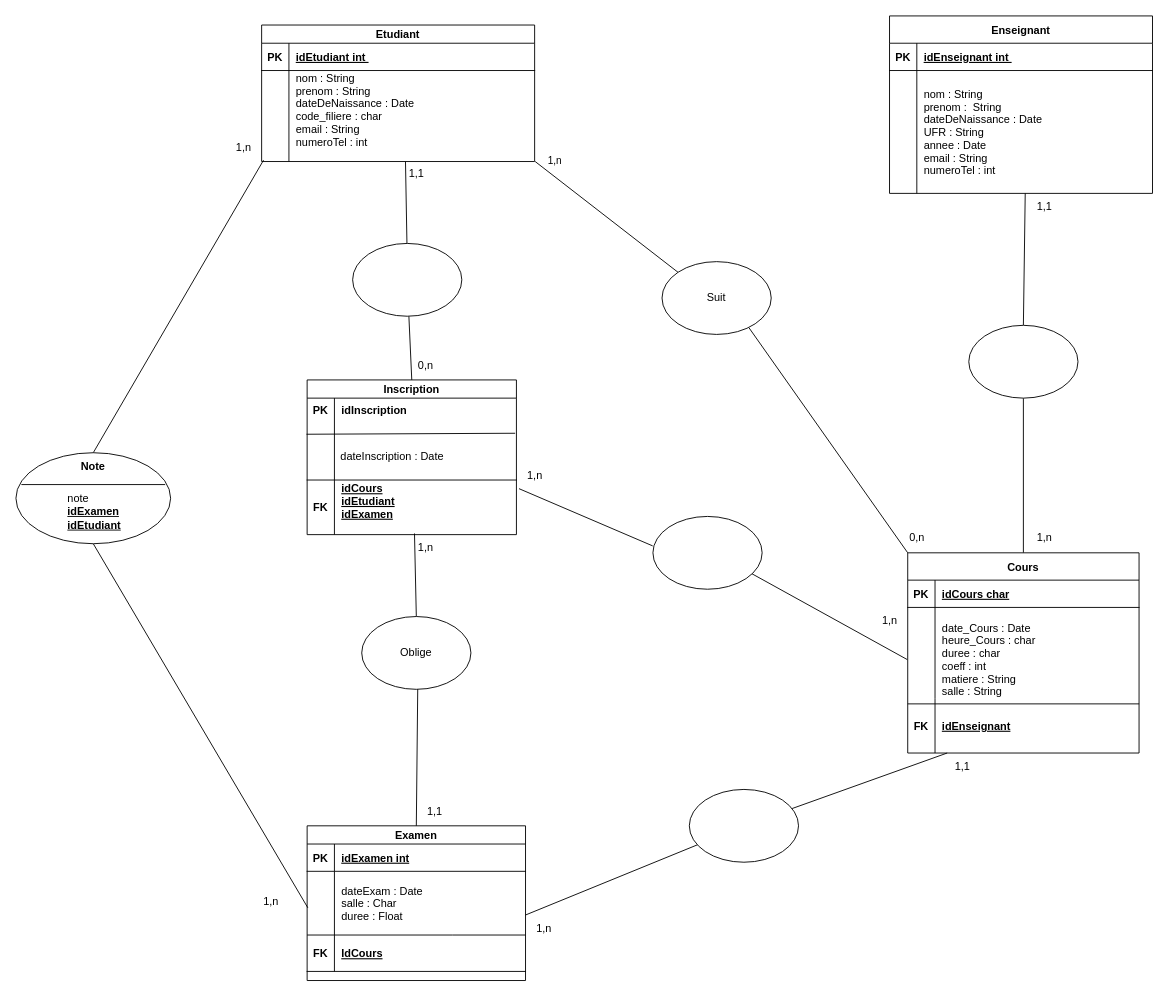
Image size: 1168x996. Some labels were removed from this diagram. Here are the shapes that lost their labels. From the top down, the box of each, then its label:
(352, 243, 462, 316): Effectue
(968, 324, 1078, 398): Donne
(652, 516, 762, 589): Inscrire
(688, 789, 799, 862): Passe
